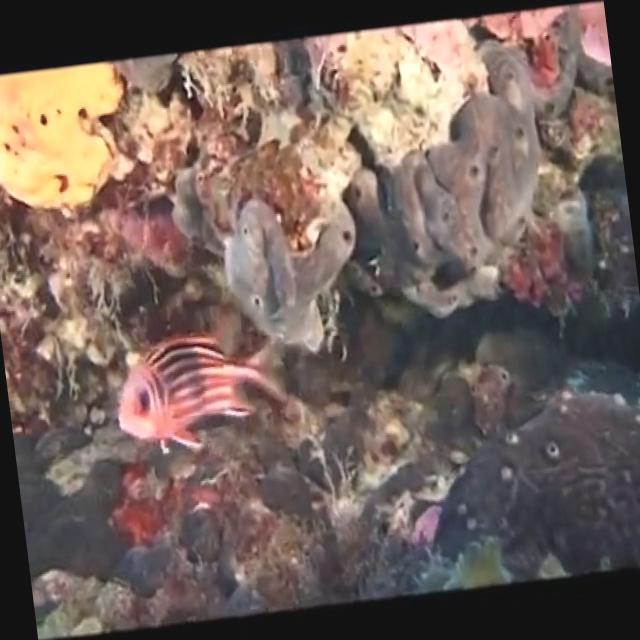Asker Baligi: (104, 320, 294, 463)
